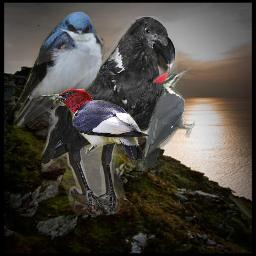Crow: (41, 16, 178, 215)
Swallow: (10, 10, 105, 128)
Woodpecker: (42, 89, 149, 165), (136, 67, 195, 171)
